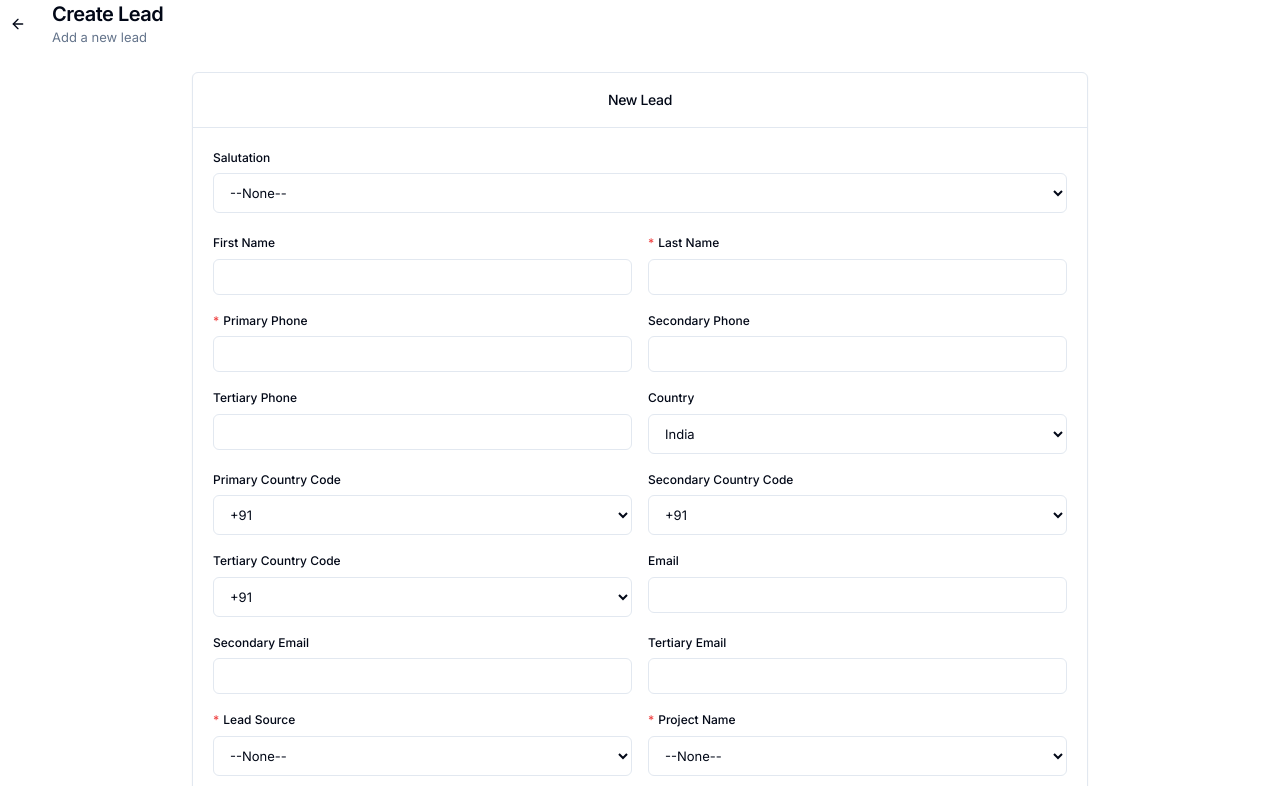
Test: Create Lead duplicate handling › does not choose arbitrarily when duplicate matches are ambiguous
The image size is (1280, 786).
expect the field labelled "*Primary Phone" is shown: met, box [213,336,632,372]
In the field labelled "*Last Name": (858, 276) [648,258,1067,294], type "Customer"
In the field labelled "*Primary Phone": (422, 354) [213,336,632,372], type "9876543210"
Select "Website" in the dropdown labelled "*Lead Source": (422, 756) [213,736,632,776]
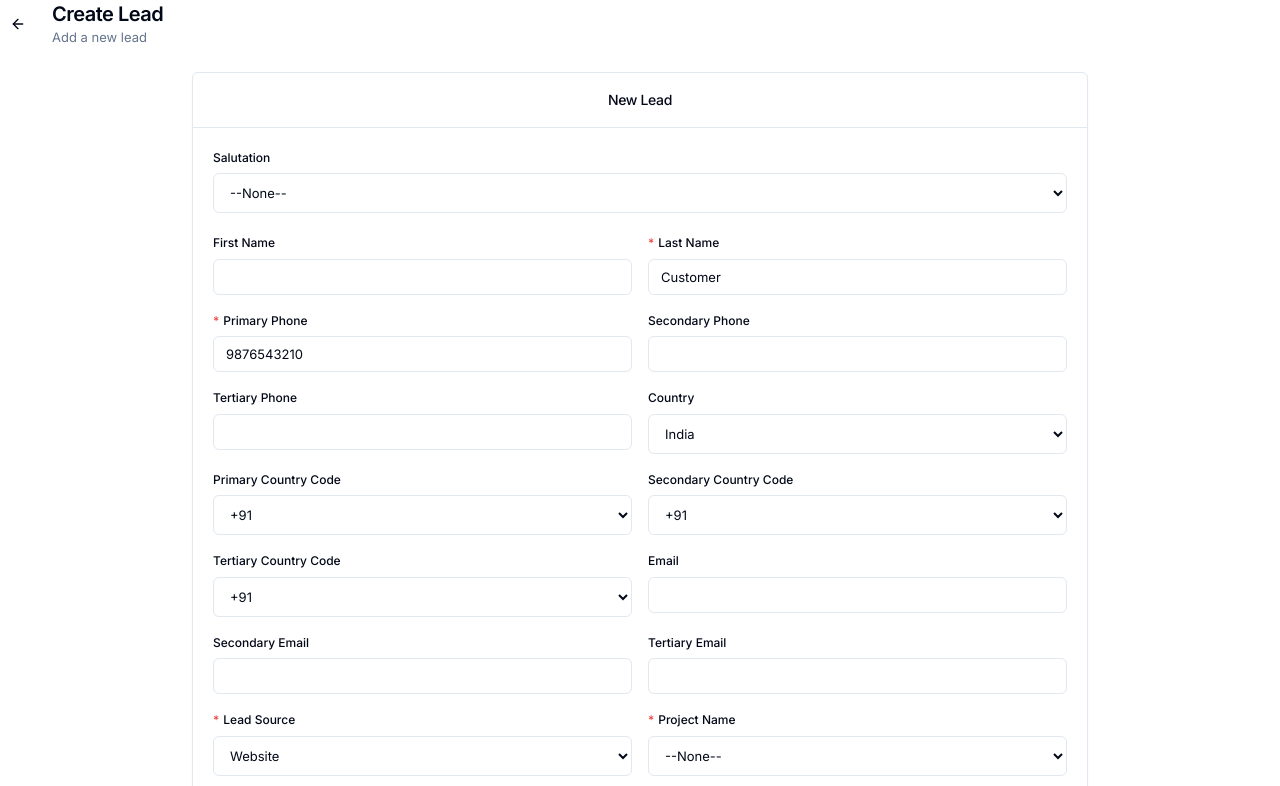
Select "DCT Heights" in the dropdown labelled "*Project Name": (858, 756) [648,736,1067,776]
(page scrolled)
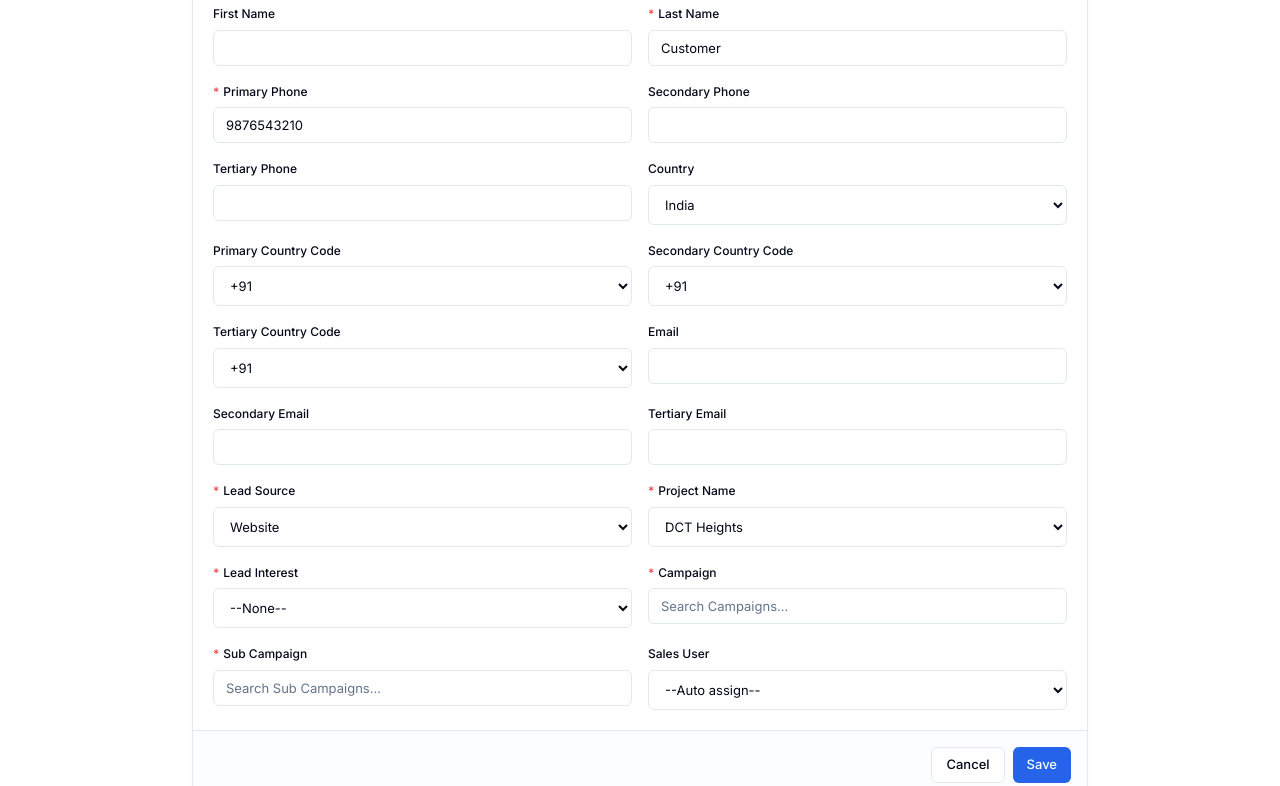
Select "Prospect" in the dropdown labelled "*Lead Interest": (422, 608) [213,588,632,628]
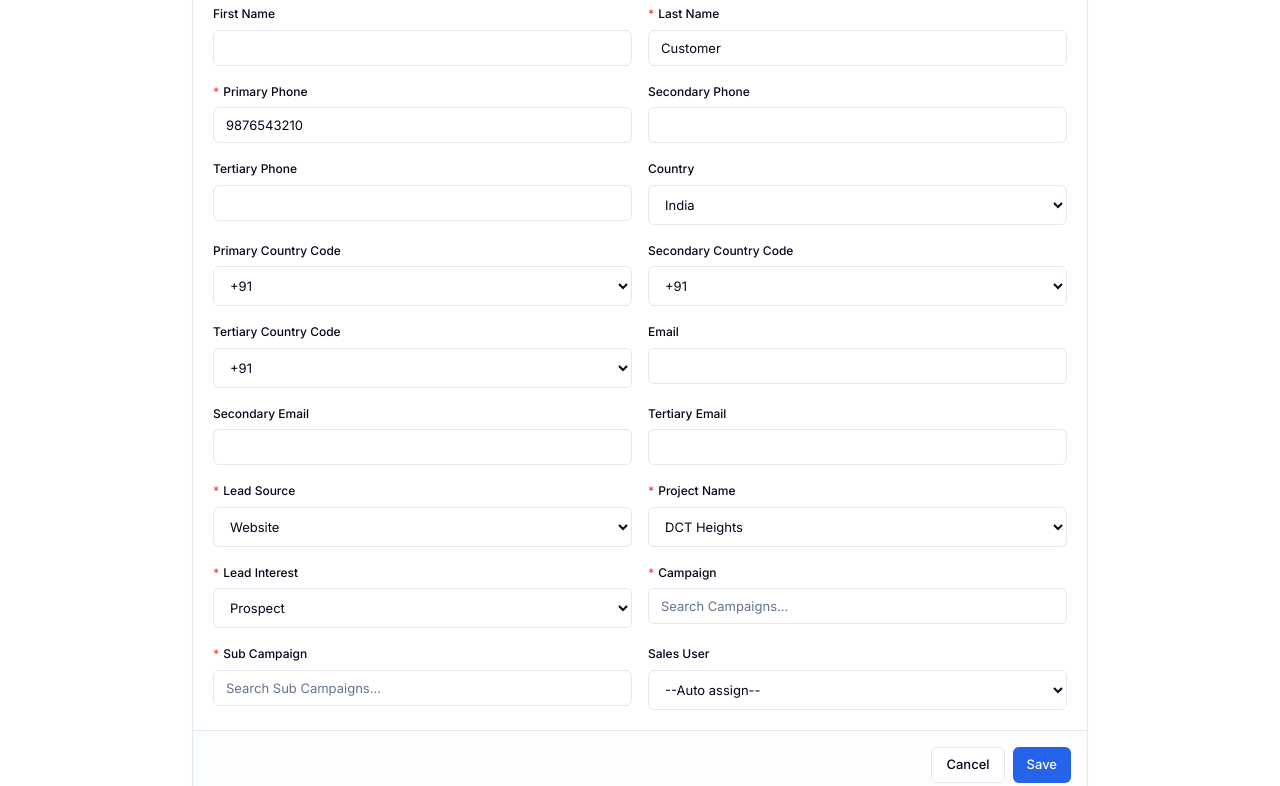
In the field with placeholder "Search Campaigns...": (858, 606) [648,588,1067,624], type "Website"
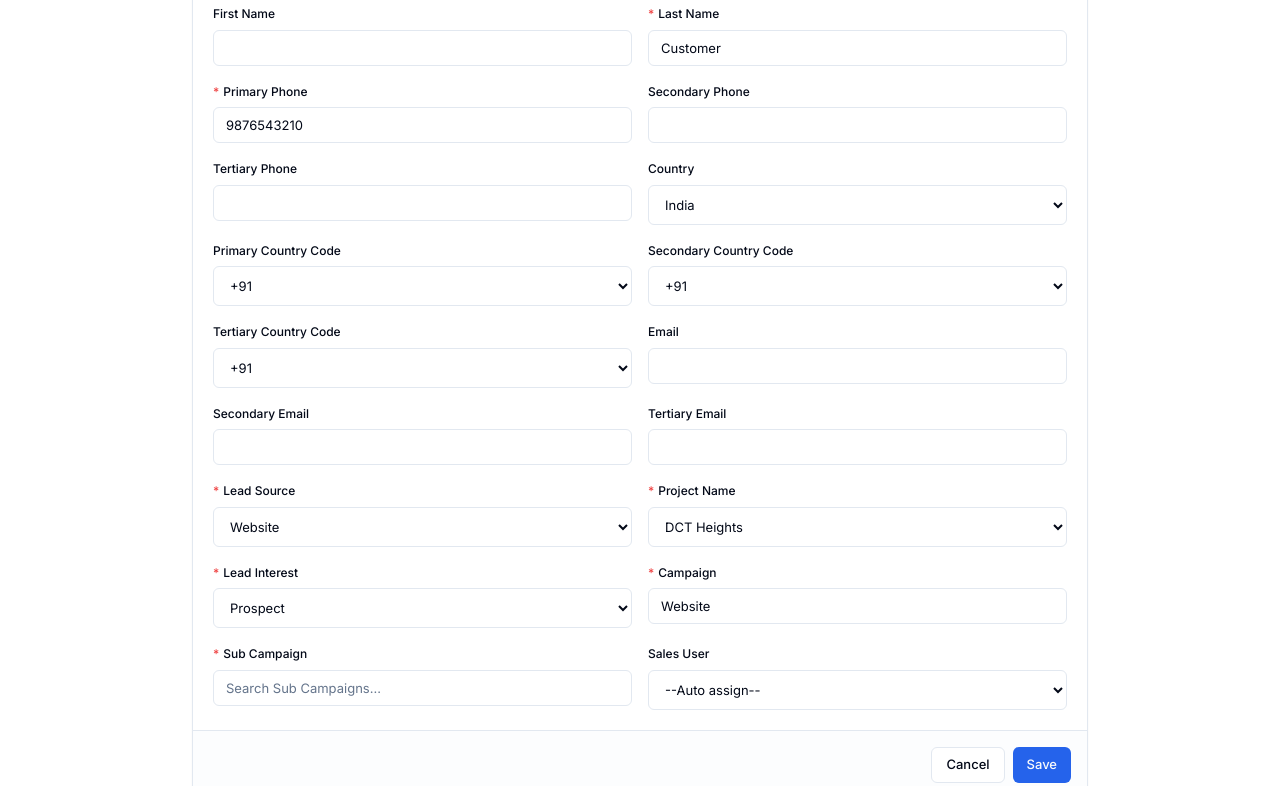
In the field with placeholder "Search Sub Campaigns...": (422, 688) [213,670,632,706], type "Landing page"
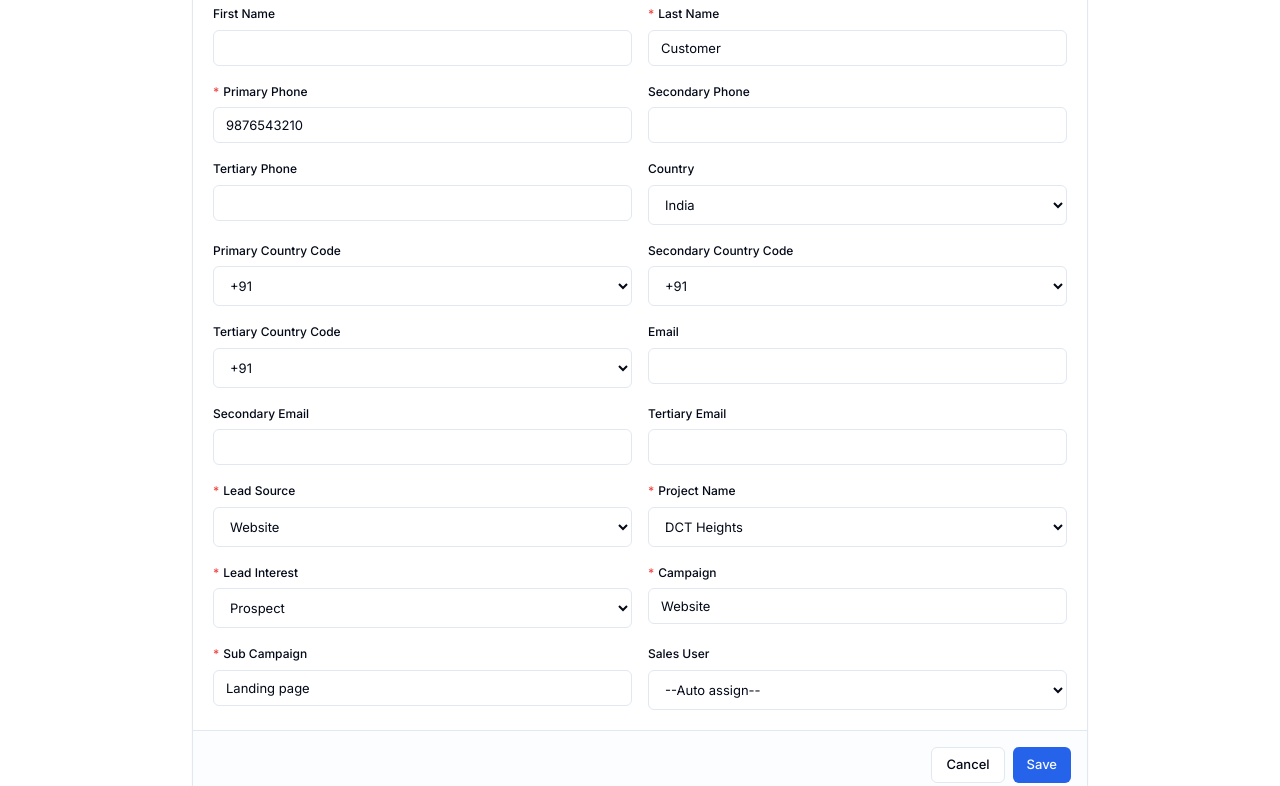
Click the button "Save": (1042, 764) [1012,746,1071,782]
(page scrolled)
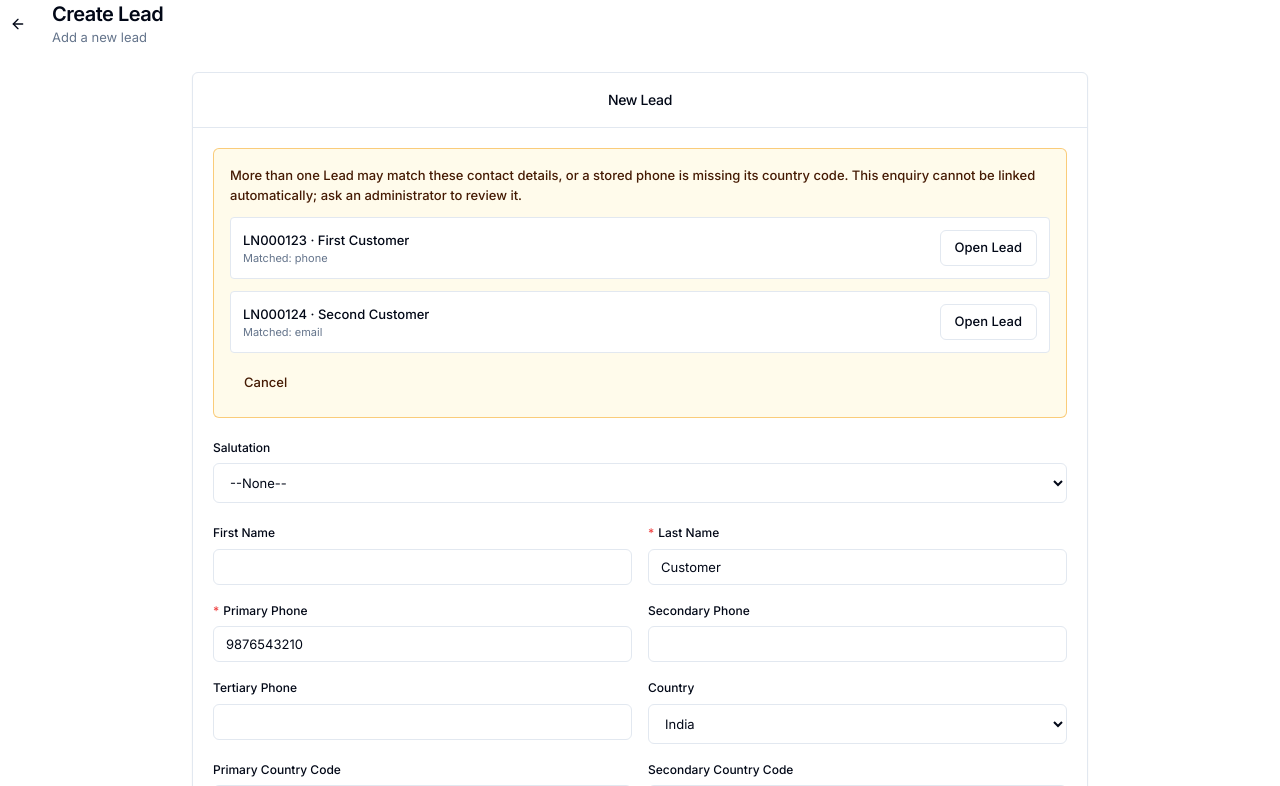
expect the text "More than one Lead may match" is shown: met, box [230,166,1035,202]
